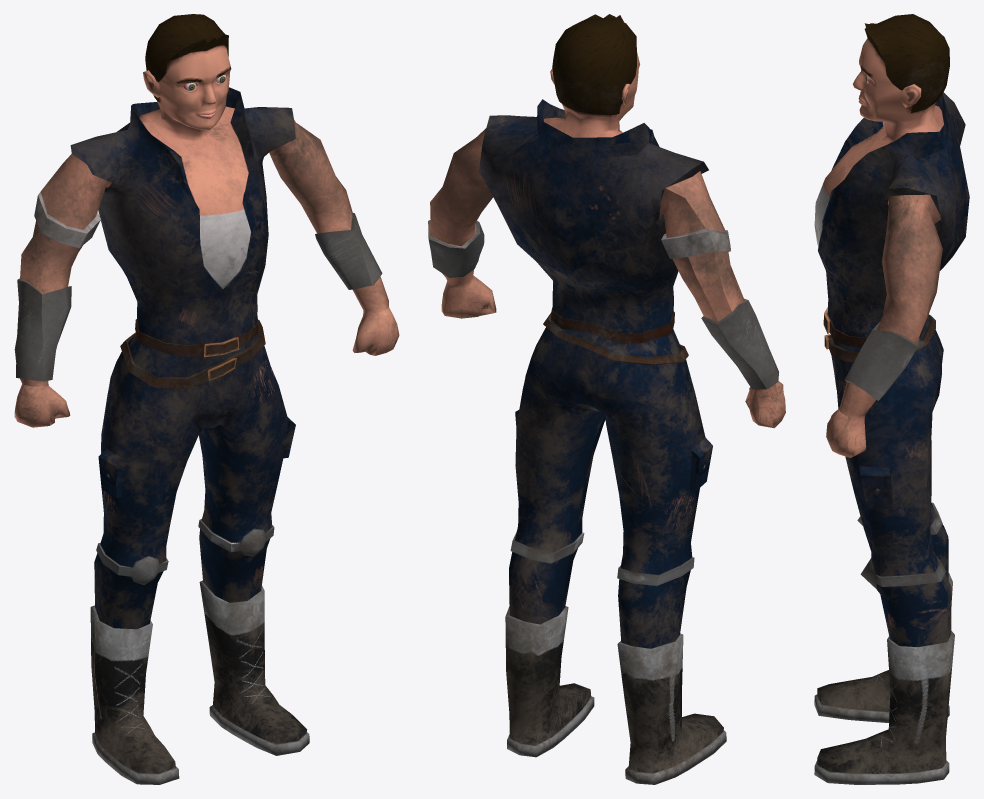
File: Anim_idle_jugador.0034.obj
3 renders of one model, left to right at view 1: azimuth 30°, elevation 25°; view 2: azimuth 150°, elevation 25°; view 3: azimuth 270°, elevation 25°, orthographic.
Visible parts, largest first — view 1: polySurface1; view 2: polySurface1; view 3: polySurface1.
Boxes of the visible parts, x1,y1,x2,y2 form: polySurface1: (14, 14, 399, 784); polySurface1: (428, 14, 785, 784); polySurface1: (814, 14, 969, 784).
Bounding box in the file's own units: 5 × 9.64 × 1.87.
